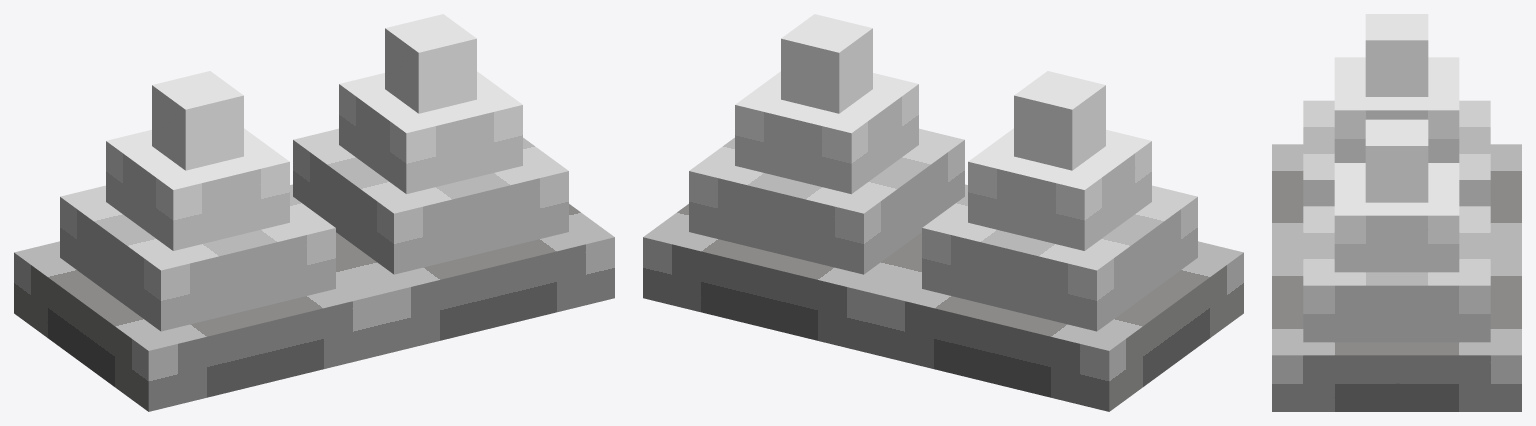
File: Spike1.fbx
3 renders of one model, left to right at view 1: azimuth 30°, elevation 25°; view 2: azimuth 150°, elevation 25°; view 3: azimuth 270°, elevation 25°, orthographic. The views are drawn at different scales.
Visible parts, largest first — view 1: cube_7, cube_6, cube_1, cube, cube_5, cube_2, cube_3, cube_4; view 2: cube_7, cube_6, cube_1, cube, cube_5, cube_2, cube_3, cube_4; view 3: cube, cube_1, cube_2, cube_5, cube_6, cube_7, cube_3, cube_4.
Boxes of the visible parts, x1,y1,x2,y2 form: cube_7: [14, 241, 381, 411]; cube_6: [60, 185, 335, 331]; cube_1: [293, 128, 568, 274]; cube: [290, 184, 614, 354]; cube_5: [106, 128, 289, 250]; cube_2: [339, 71, 522, 194]; cube_3: [385, 14, 476, 113]; cube_4: [152, 71, 243, 170]; cube_7: [876, 241, 1243, 411]; cube_6: [922, 185, 1197, 331]; cube_1: [689, 128, 964, 274]; cube: [643, 184, 967, 354]; cube_5: [968, 128, 1151, 250]; cube_2: [735, 71, 918, 194]; cube_3: [781, 14, 872, 113]; cube_4: [1014, 71, 1105, 170]; cube: [1272, 249, 1521, 411]; cube_1: [1303, 206, 1490, 342]; cube_2: [1334, 163, 1459, 272]; cube_5: [1334, 57, 1459, 162]; cube_6: [1303, 100, 1490, 206]; cube_7: [1272, 144, 1521, 249]; cube_3: [1365, 119, 1428, 202]; cube_4: [1365, 14, 1428, 96].
Size of the model in its own units: 100 by 50 by 50.
Materials: 1 (1 with a texture image).
